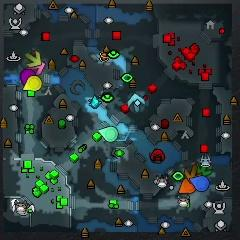p1: (190, 175, 210, 192)
p2: (99, 126, 119, 142)
p3: (20, 69, 35, 85)
p4: (23, 75, 42, 91)
p5: (178, 178, 196, 194)
x1: (27, 60, 47, 76)
x2: (26, 51, 42, 68)
x3: (128, 93, 144, 112)
x4: (195, 163, 212, 176)
x5: (184, 164, 202, 178)
